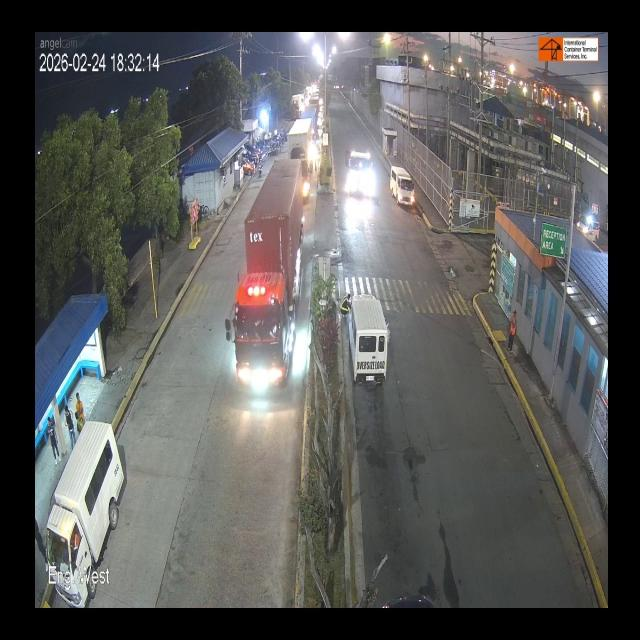car: (45, 439, 132, 551), (346, 285, 389, 386), (386, 169, 420, 212)
truck: (234, 154, 308, 409), (290, 112, 316, 195), (287, 95, 301, 117)
